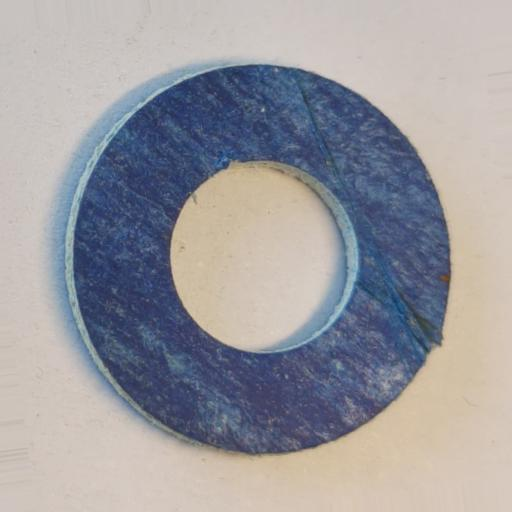defect: (288, 66, 445, 366)
